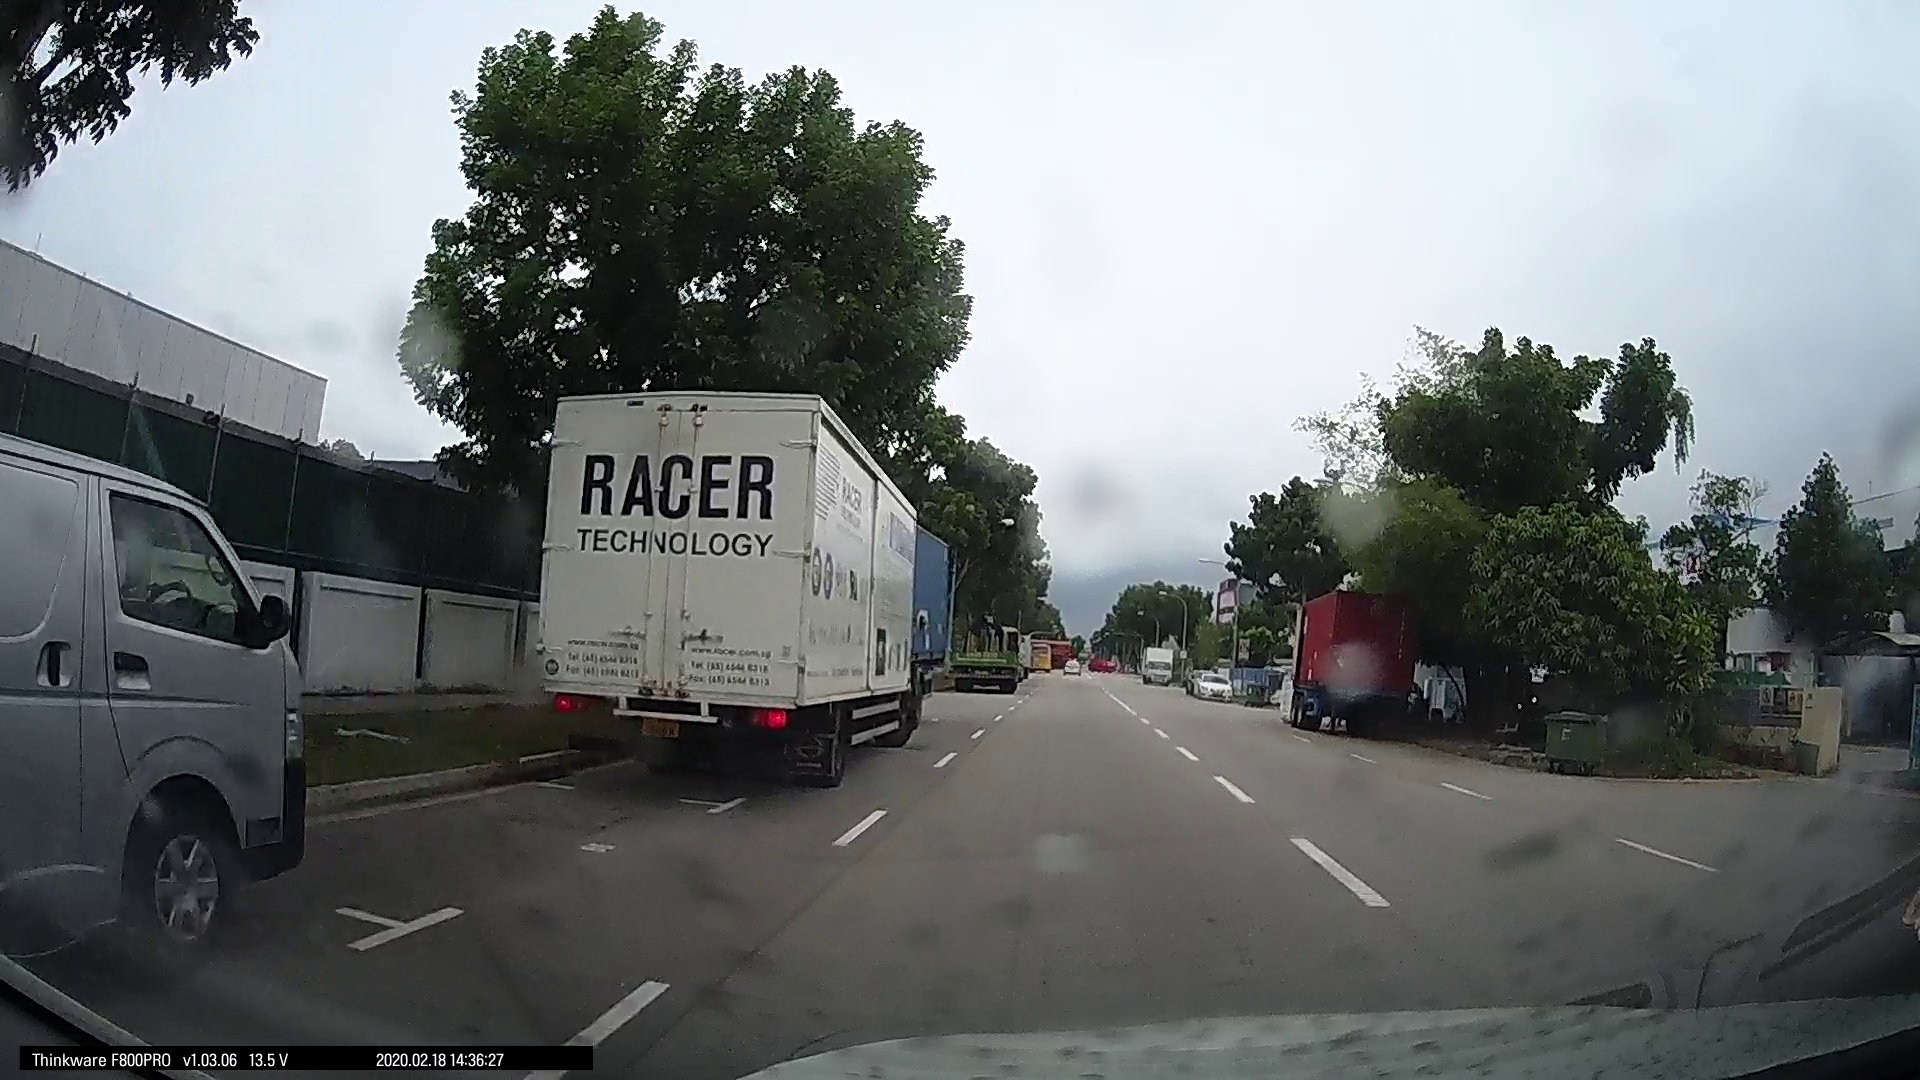Heavy Vehicle: (526, 381, 931, 787), (1280, 585, 1425, 735)
Light Vehicle: (3, 422, 316, 977)
